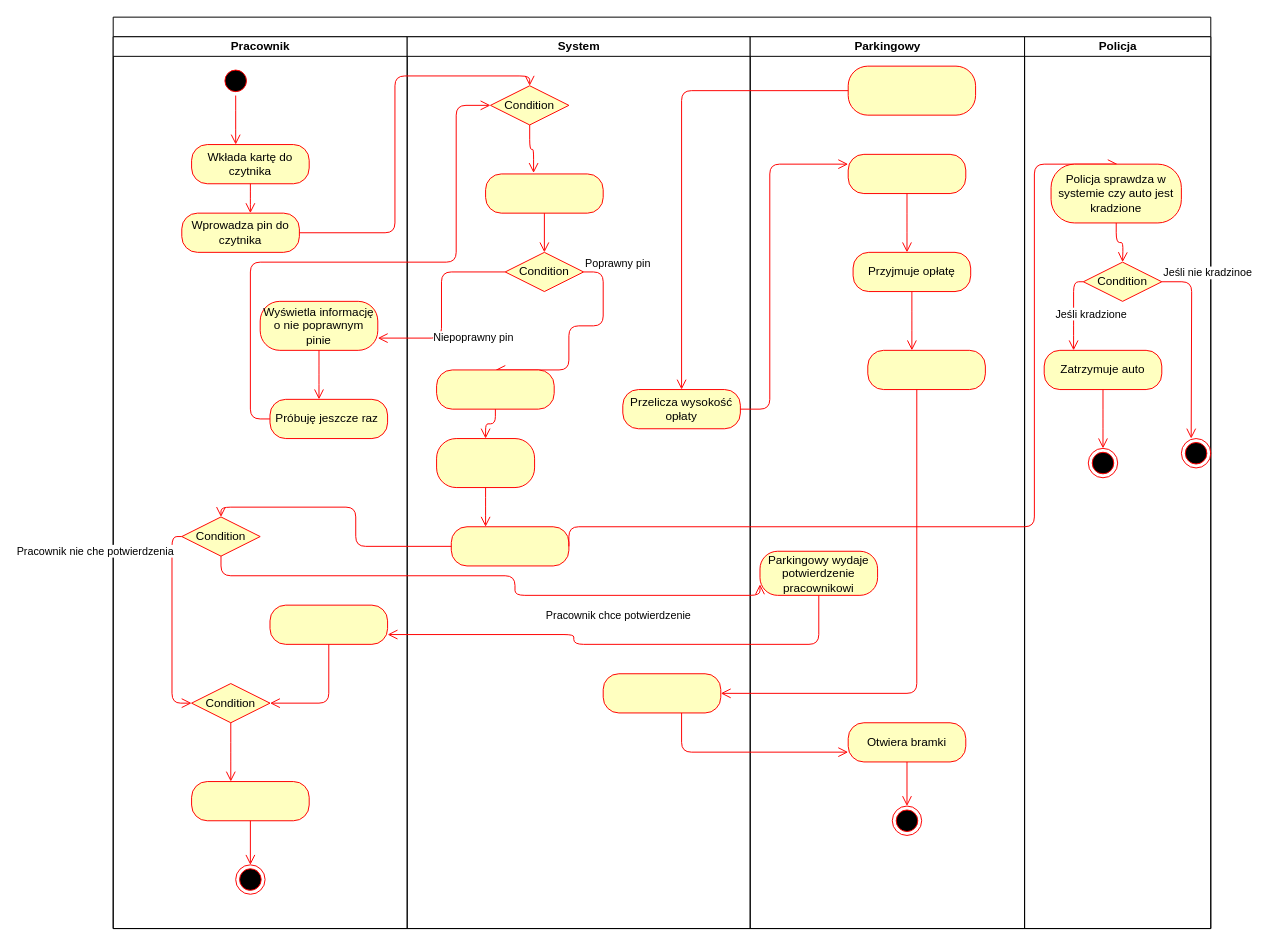
The diagram is 1269 pixels wide and 946 high, and some of its shapes have lost their labels. The shapes that lost their labels are listed below. From the top down, each one's centre as x and y in pixels, then its label:
At (x=911, y=90): "Sprawdza w systemie wysokość opłaty".
At (x=544, y=193): "Sprawdza poprawność pinu".
At (x=906, y=173): "Otrzymuje informacje o opłacie".
At (x=495, y=389): "Otwiera barierki i oddaje kartę".
At (x=926, y=369): "Rejestruje ją w systemie".
At (x=485, y=463): "Rejestruje wjazd".
At (x=509, y=546): "Rejestruje wyjazd".
At (x=328, y=624): "Pracownik otrzymuje potwierdzenie".
At (x=661, y=693): "Rejestruje opłatę".
At (x=250, y=801): "Pracownik opuszcza parking".
